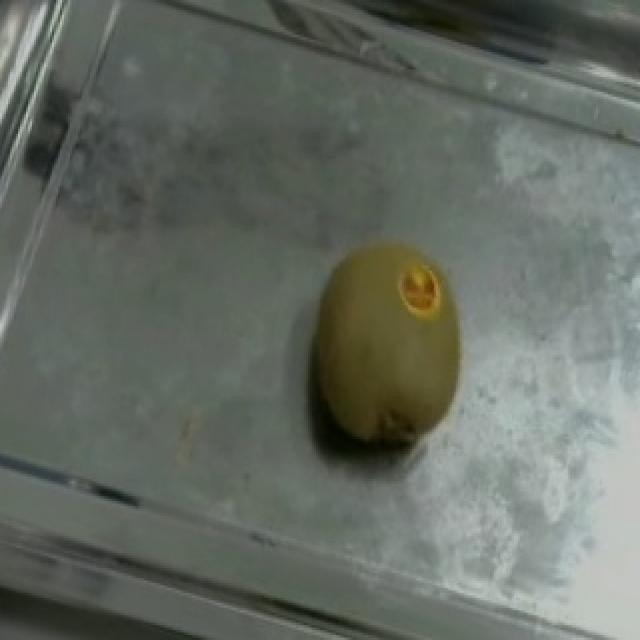Fruit: (262, 203, 506, 484)
